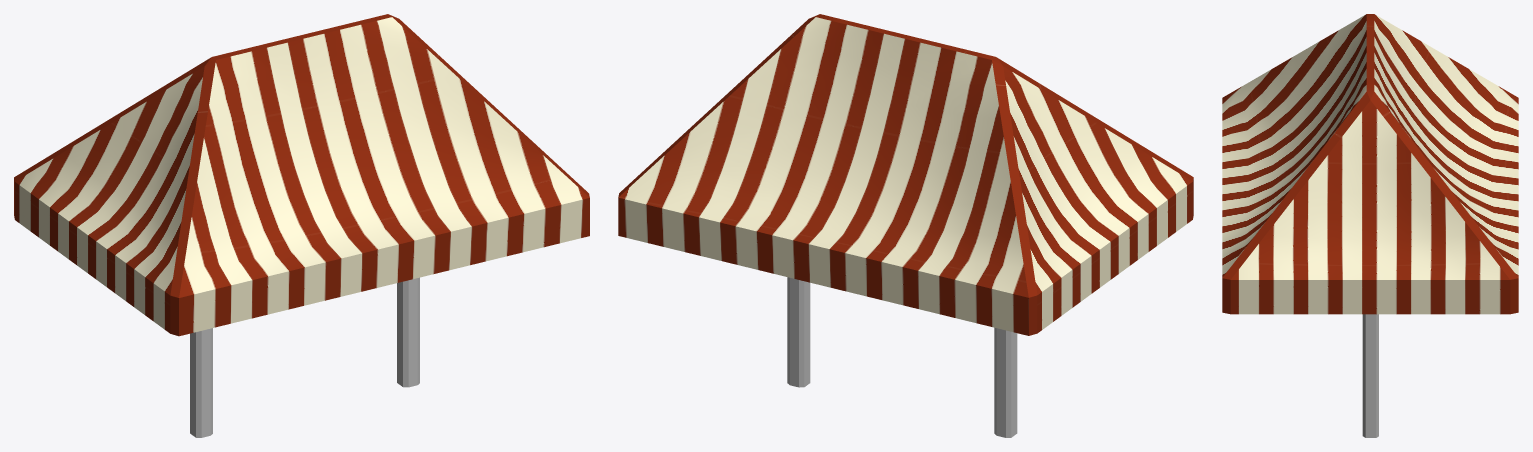
The model's file is Sm_Booth_Top2.fbx.
3 renders of one model, left to right at view 1: azimuth 30°, elevation 25°; view 2: azimuth 150°, elevation 25°; view 3: azimuth 270°, elevation 25°, orthographic. The views are drawn at different scales.
Visible parts, largest first — view 1: Top2; view 2: Top2; view 3: Top2.
Part boxes in pixels (x1=…): Top2: x1=14, y1=14, x2=589, y2=437; Top2: x1=618, y1=14, x2=1193, y2=437; Top2: x1=1222, y1=14, x2=1518, y2=437.
Size of the model in its own units: 578 by 491 by 395.
